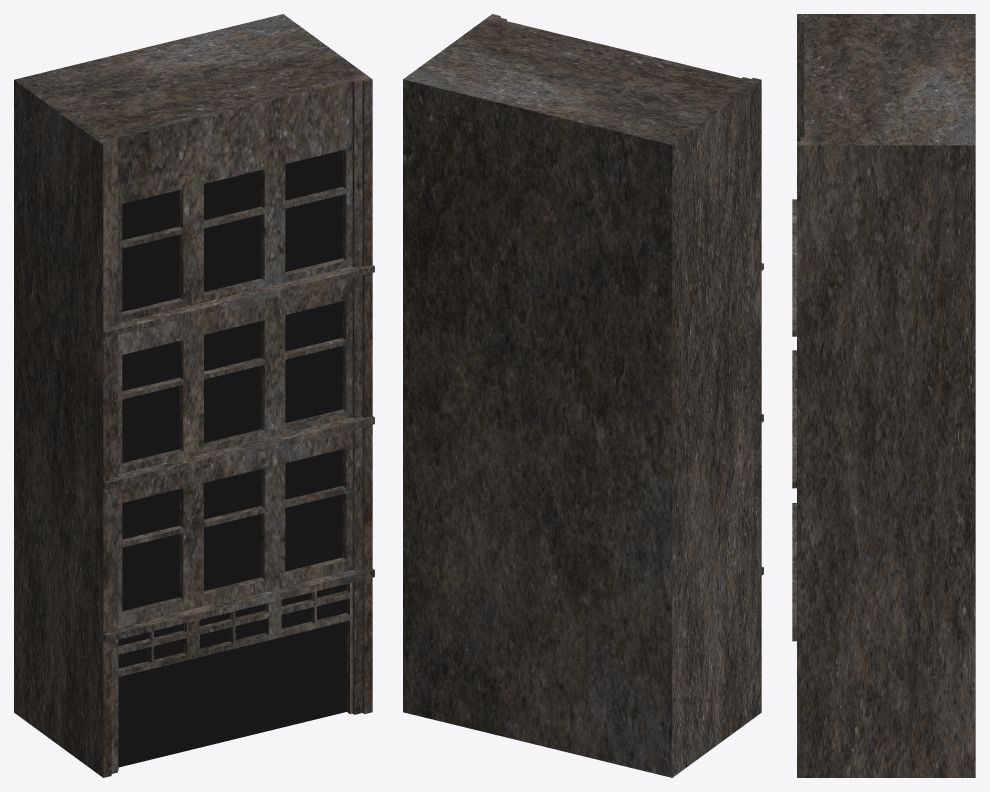
File: Building.fbx
The picture shows the model from 3 angles, left to right: view 1: azimuth 30°, elevation 25°; view 2: azimuth 150°, elevation 25°; view 3: azimuth 270°, elevation 25°; orthographic projection.
Visible parts, largest first — view 1: Cube; view 2: Cube; view 3: Cube.
Part boxes in pixels (box(x1,y1,x2,y2)): Cube: box(14, 14, 374, 777); Cube: box(403, 14, 763, 777); Cube: box(792, 14, 975, 777).
Size of the model in its own units: 1425 by 3200 by 839.
